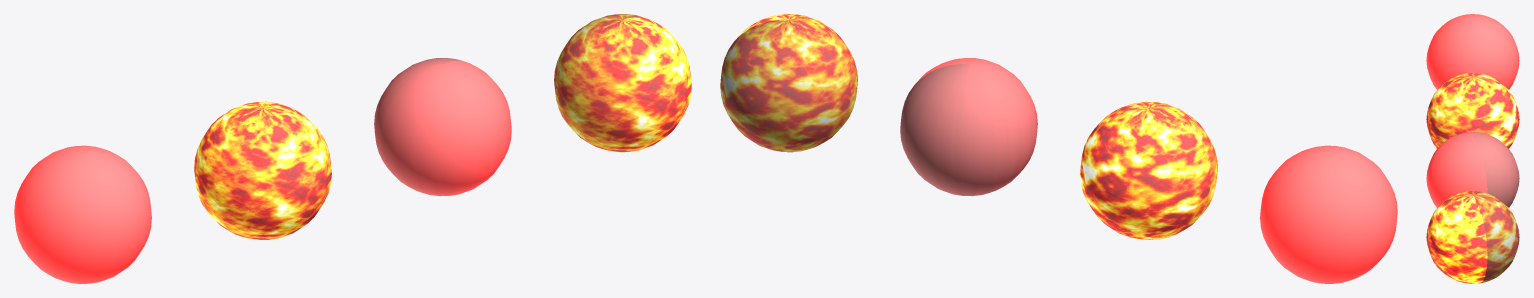
Rendered from Emissive.gltf.
3 renders of one model, left to right at view 1: azimuth 30°, elevation 25°; view 2: azimuth 150°, elevation 25°; view 3: azimuth 270°, elevation 25°, orthographic. The views are drawn at different scales.
Visible parts, largest first — view 1: pSphere2, pSphere3, pSphere1, pSphere4; view 2: pSphere2, pSphere3, pSphere1, pSphere4; view 3: pSphere4, pSphere2, pSphere3, pSphere1.
Part boxes in pixels (<box>): pSphere2: <box>194,101,331,239</box>; pSphere3: <box>374,58,511,196</box>; pSphere1: <box>14,145,151,283</box>; pSphere4: <box>554,14,691,152</box>; pSphere2: <box>1080,101,1217,239</box>; pSphere3: <box>900,58,1037,196</box>; pSphere1: <box>1260,145,1397,283</box>; pSphere4: <box>720,14,857,152</box>; pSphere4: <box>1426,191,1519,283</box>; pSphere2: <box>1426,73,1519,148</box>; pSphere3: <box>1426,132,1519,207</box>; pSphere1: <box>1426,14,1519,89</box>.
Bounding box in the file's own units: 11 × 2 × 2.
Materials: 4 (2 with a texture image).
